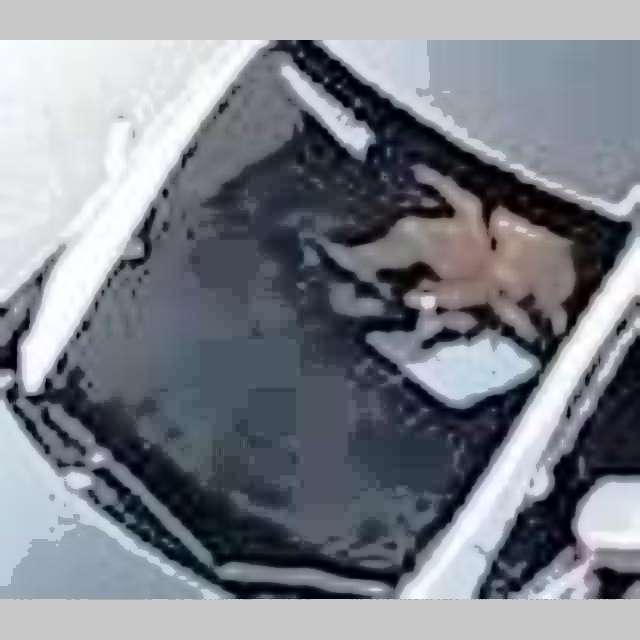pakai: (348, 146, 572, 357)
